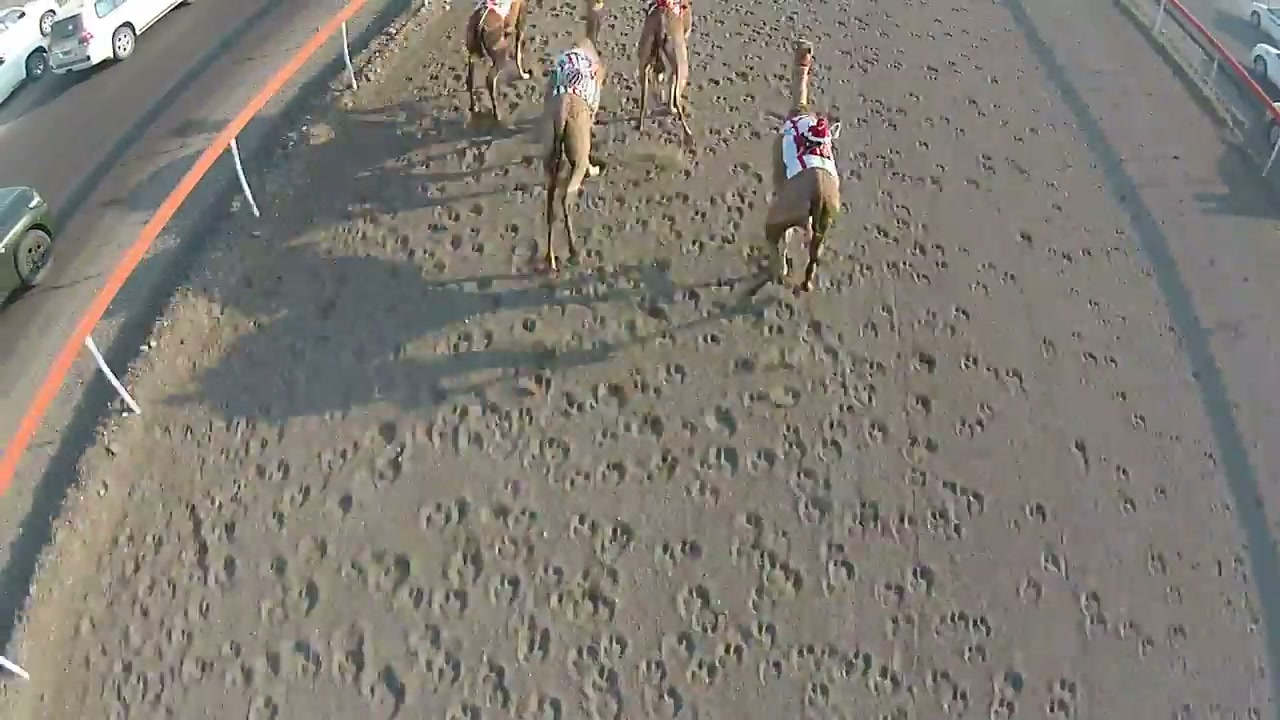animal_footprint: (5, 0, 1266, 719)
